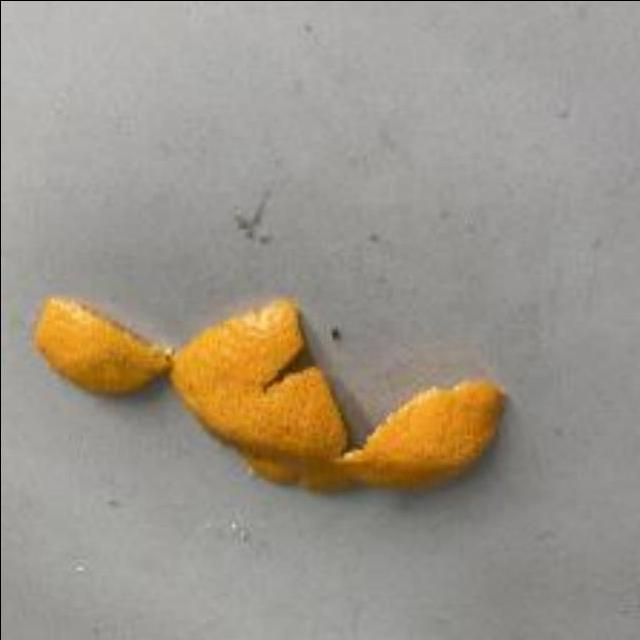orange peel: (34, 293, 510, 499)
